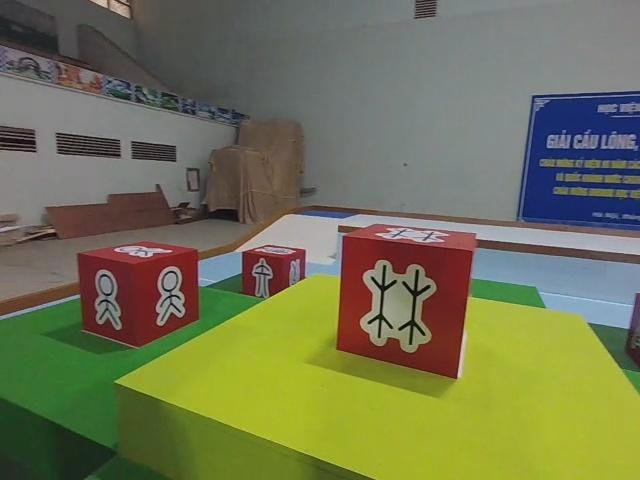R2 Fake: (239, 242, 307, 301)
R2 Real: (334, 221, 478, 383), (75, 238, 201, 349)
